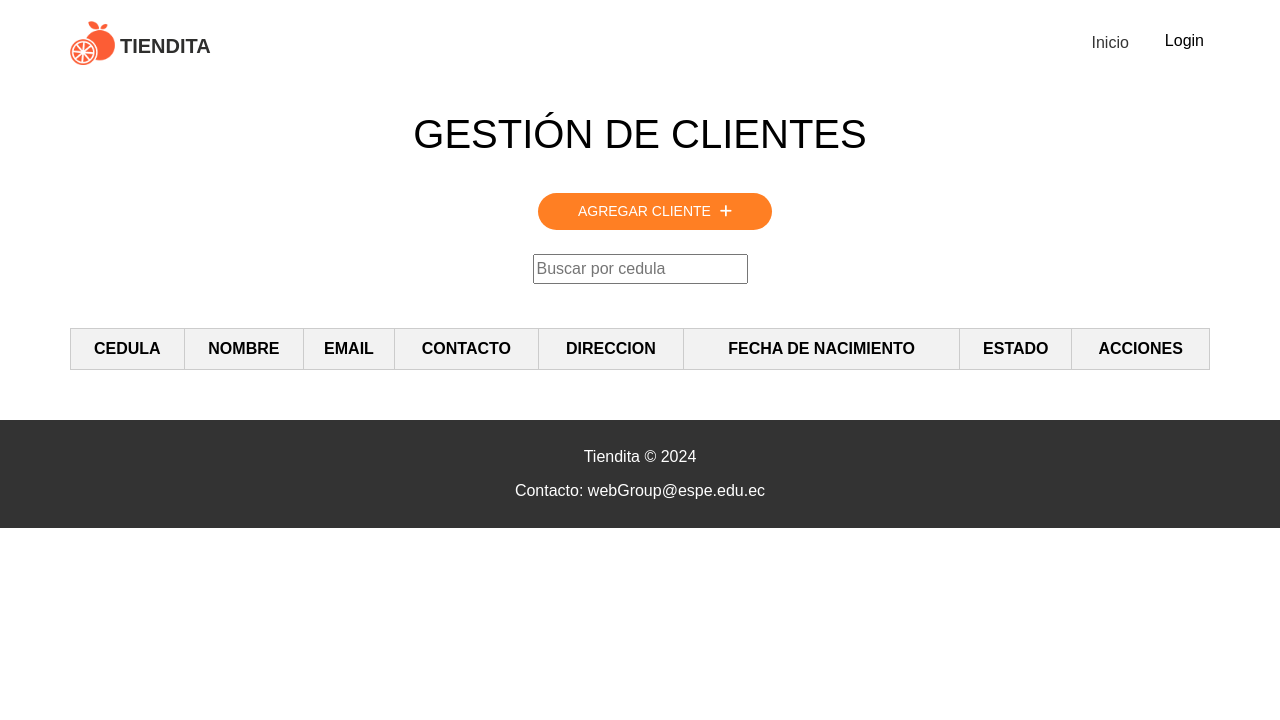
Pruebas de RegistroCliente › Agregar cliente esta visible
The width and height of the screenshot is (1280, 720).
Click the button "Agregar Cliente" at (655, 212), box [538,193,772,230]
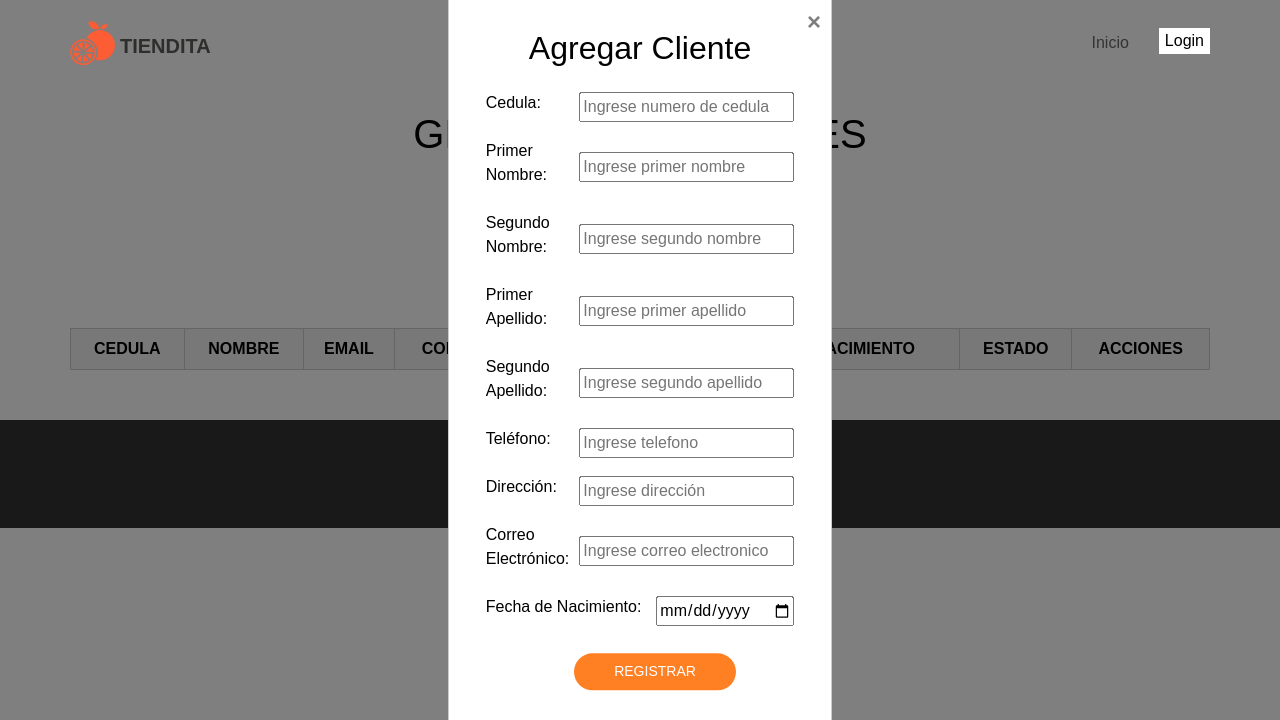
Now the element with class "modal" is shown
